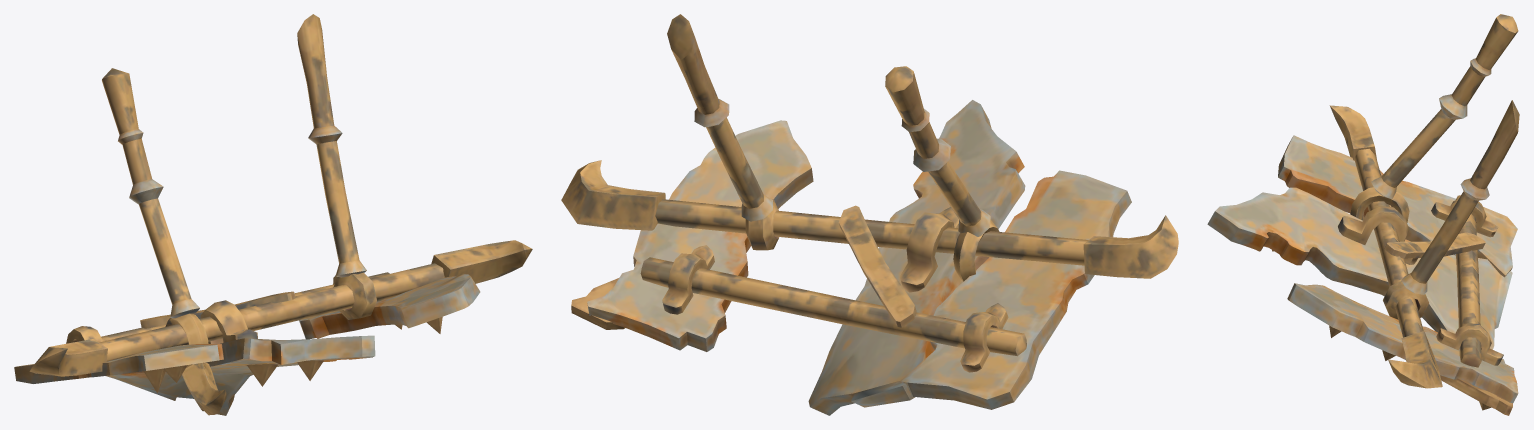
The model's file is HL_Barricade_D_DmgState_02_00.fbx.
3 views of the same model, side by side, from view 1: azimuth 30°, elevation 25°; view 2: azimuth 150°, elevation 25°; view 3: azimuth 270°, elevation 25° (orthographic). The views are drawn at different scales.
Parts seen in each view (by area): view 1: HL_Barricade_D_DmgState_02_00; view 2: HL_Barricade_D_DmgState_02_00; view 3: HL_Barricade_D_DmgState_02_00.
Part boxes in pixels (box(x1,y1,x2,y2)): HL_Barricade_D_DmgState_02_00: box(14, 14, 532, 415); HL_Barricade_D_DmgState_02_00: box(561, 14, 1178, 415); HL_Barricade_D_DmgState_02_00: box(1207, 14, 1519, 415).
Size of the model in its own units: 562 by 363 by 321.
